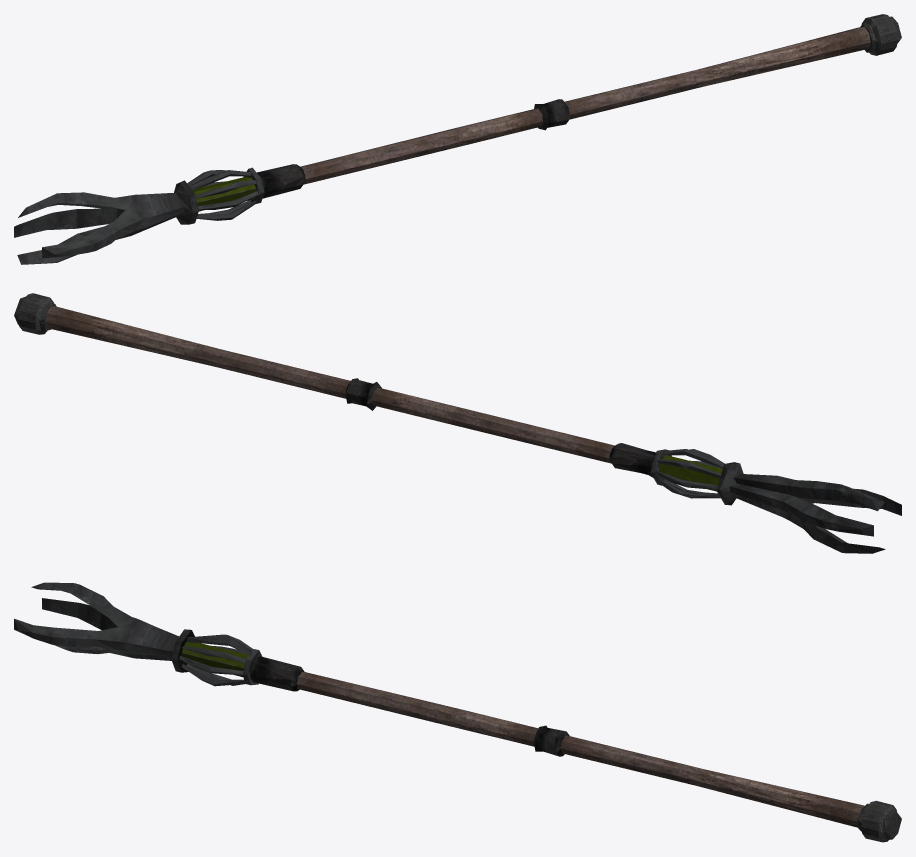
The model's file is G3_WEAPON_STAFF_PROT_03.glb.
3 views of the same model, one above another, from view 1: azimuth 30°, elevation 25°; view 2: azimuth 150°, elevation 25°; view 3: azimuth 330°, elevation 25° (orthographic).
Parts seen in each view (by area): view 1: G3_WEAPON_STAFF_PROT_03; view 2: G3_WEAPON_STAFF_PROT_03; view 3: G3_WEAPON_STAFF_PROT_03.
Part boxes in pixels (<box>): G3_WEAPON_STAFF_PROT_03: <box>14,14,901,264</box>; G3_WEAPON_STAFF_PROT_03: <box>14,293,901,553</box>; G3_WEAPON_STAFF_PROT_03: <box>14,582,901,842</box>.
Bounding box in the file's own units: 2.02 × 0.1537 × 0.1714.
1 material, 1 textured.
